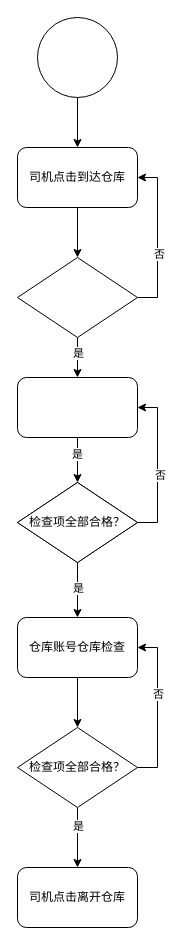
Image size: 183x945. Some labels were removed from this diagram. The shapes that lost their labels are listed below. From the top down, each one's box as (x1, y1, x2, y2) in pixels, then its label:
(36, 16, 118, 98): 开始
(16, 256, 138, 338): 车辆进入电子围栏？
(16, 376, 138, 438): 司机出车检查
